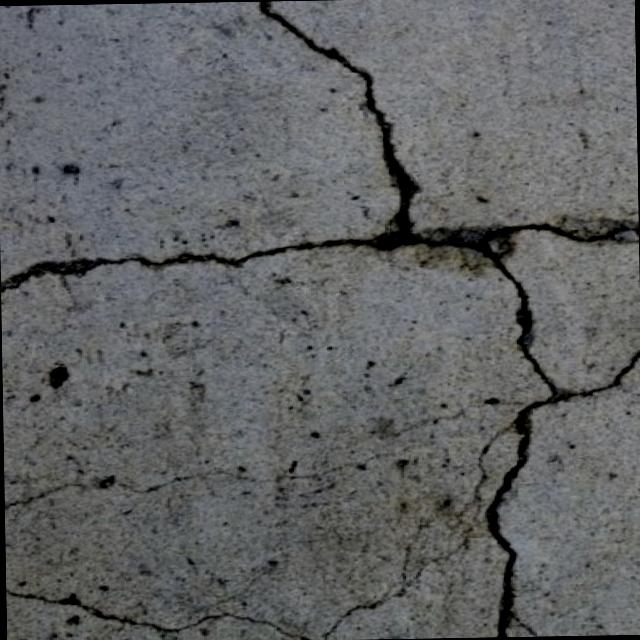crack: (464, 247, 640, 634), (0, 215, 638, 292), (249, 0, 423, 220), (4, 449, 436, 512), (11, 582, 425, 640)
